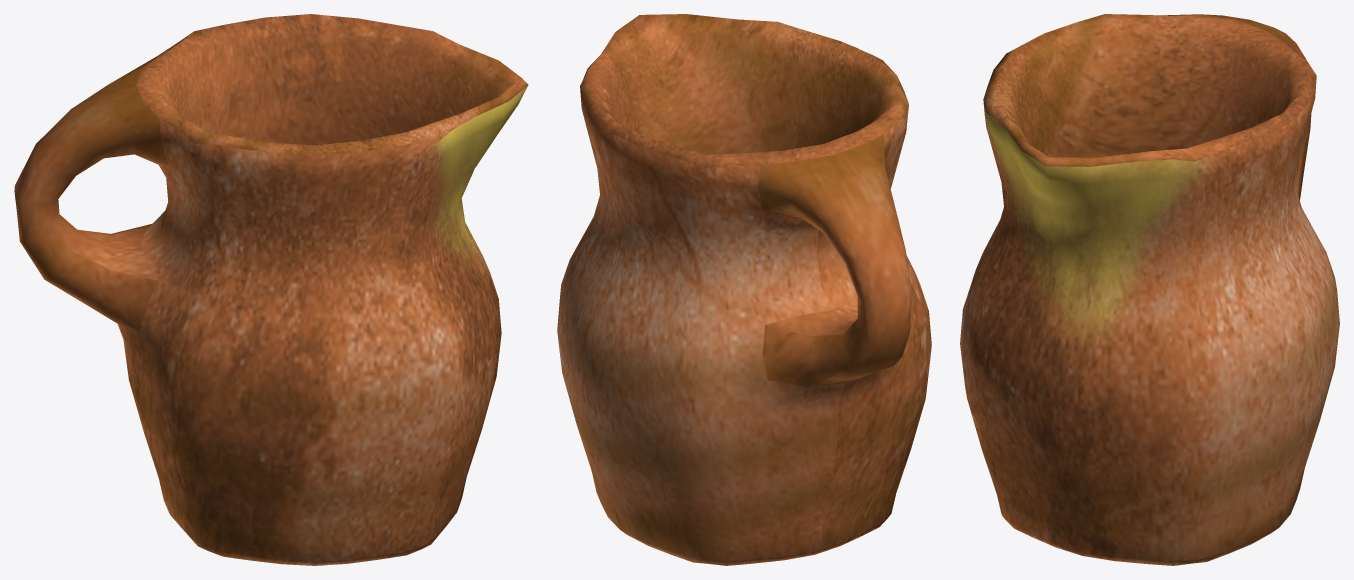
Rendered from old_jar.glb.
3 views of the same model, side by side, from view 1: azimuth 30°, elevation 25°; view 2: azimuth 150°, elevation 25°; view 3: azimuth 270°, elevation 25° (orthographic). The views are drawn at different scales.
Visible parts, largest first — view 1: jar_Plane; view 2: jar_Plane; view 3: jar_Plane.
Part boxes in pixels (left/top/right/bottom): jar_Plane: left=14, top=14, right=528, bottom=565; jar_Plane: left=557, top=14, right=931, bottom=565; jar_Plane: left=960, top=14, right=1339, bottom=565.
Size of the model in its own units: 1.03 by 1.06 by 0.8551.
Materials: 1 (1 with a texture image).
